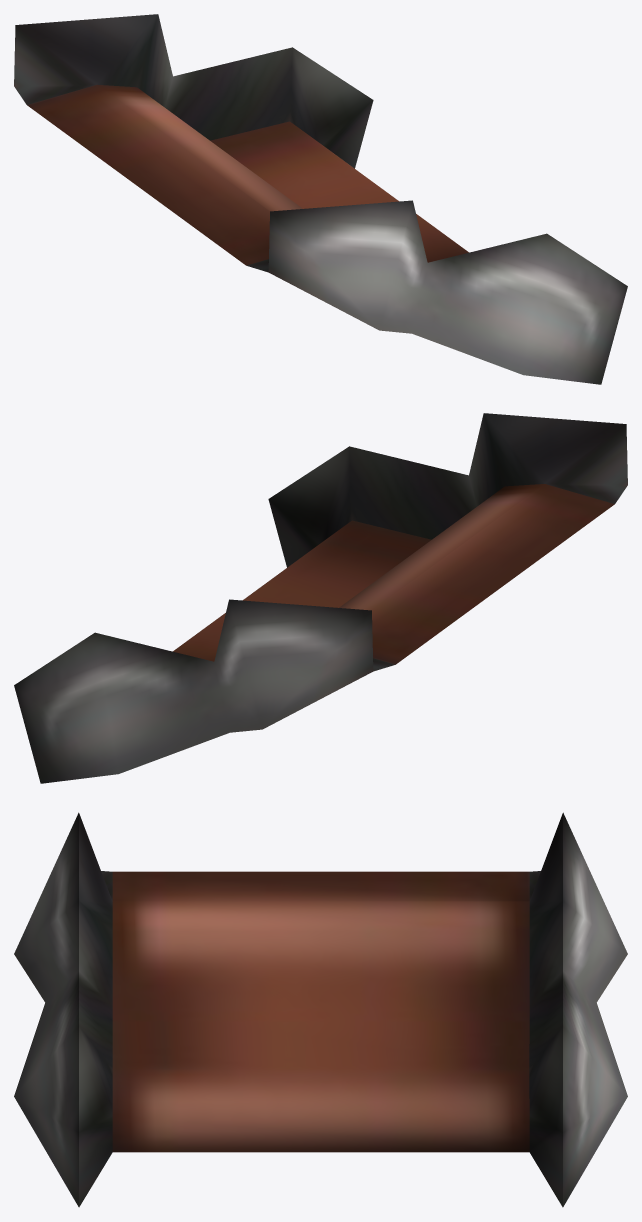
Rendered from acc_26.glb.
3 renders of one model, top to bottom at view 1: azimuth 30°, elevation 25°; view 2: azimuth 150°, elevation 25°; view 3: azimuth 270°, elevation 25°, orthographic. The views are drawn at different scales.
Parts seen in each view (by area): view 1: polySurface3; view 2: polySurface3; view 3: polySurface3.
Boxes of the visible parts, box(x1,y1,x2,y2) form: polySurface3: box(14, 14, 627, 384); polySurface3: box(14, 413, 627, 783); polySurface3: box(14, 812, 627, 1207).
Bounding box in the file's own units: 0.4274 × 0.2851 × 0.6561.
Materials: 1 (1 with a texture image).
